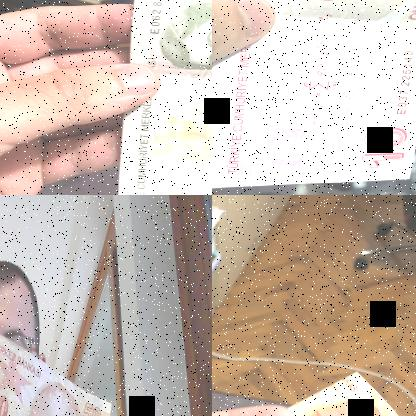5 TL: (115, 0, 211, 194)
